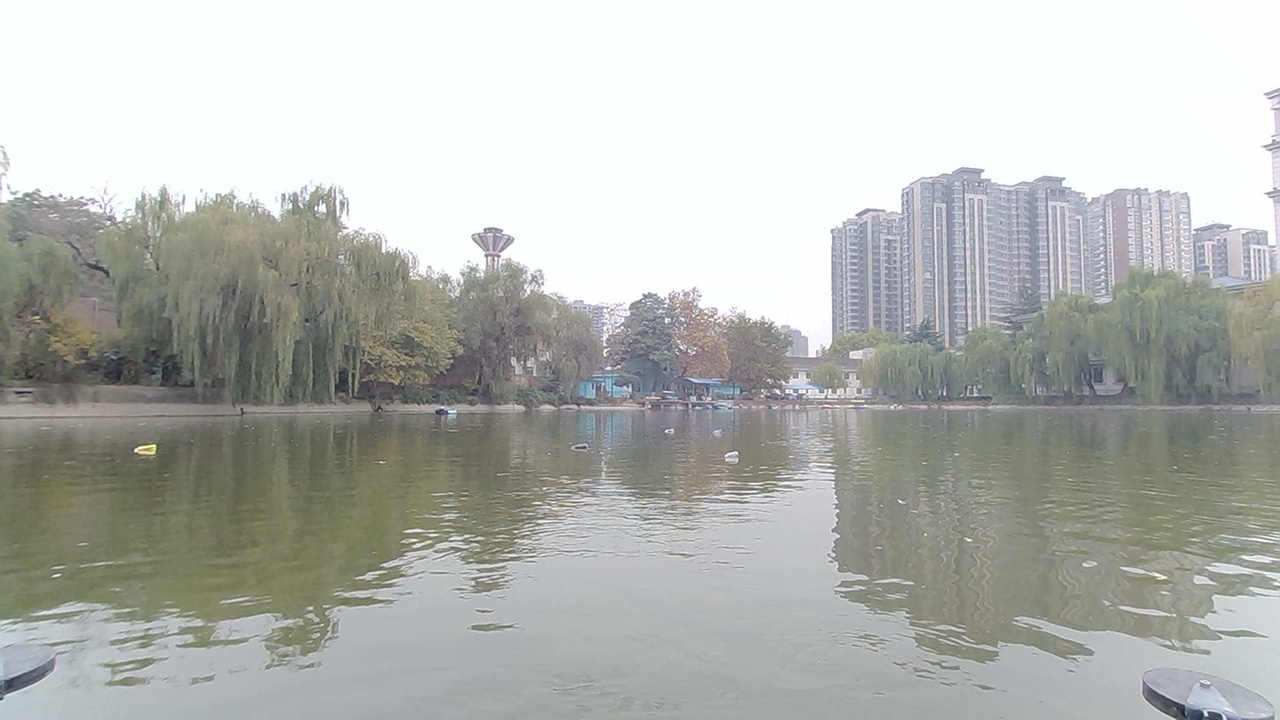bottle: (123, 432, 171, 464), (563, 436, 593, 458), (718, 445, 748, 466), (706, 423, 739, 440), (658, 419, 680, 438)
